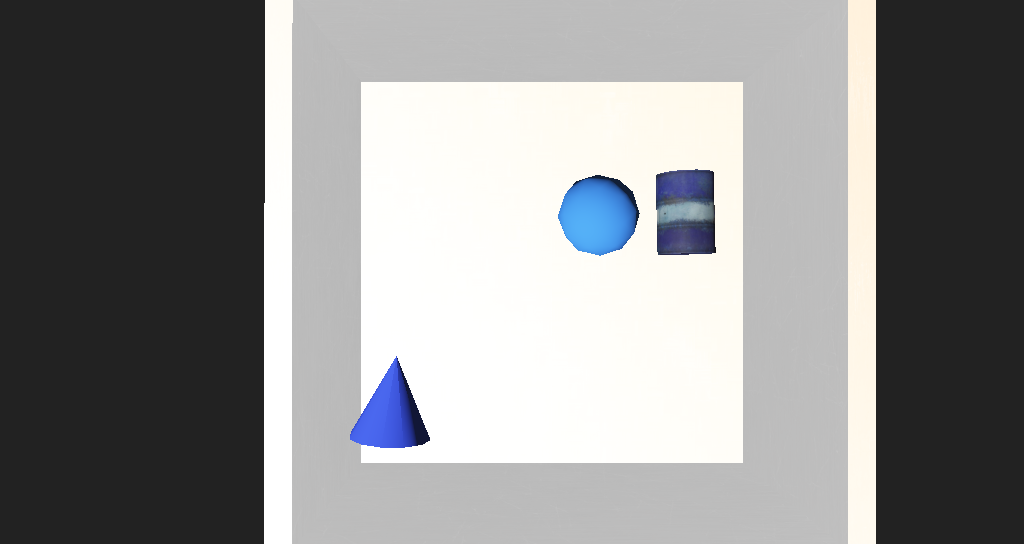cone: (589, 210, 637, 258)
cylinder: (347, 310, 421, 367)
sphere: (505, 217, 573, 260)
